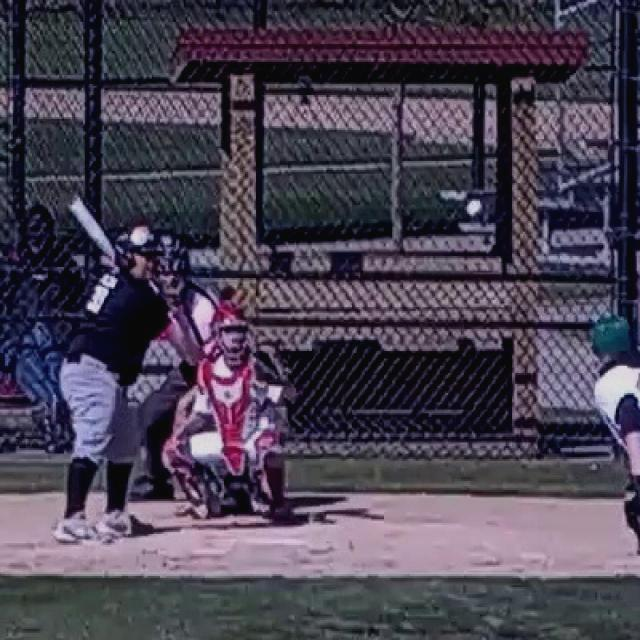ball: (468, 198, 484, 218)
